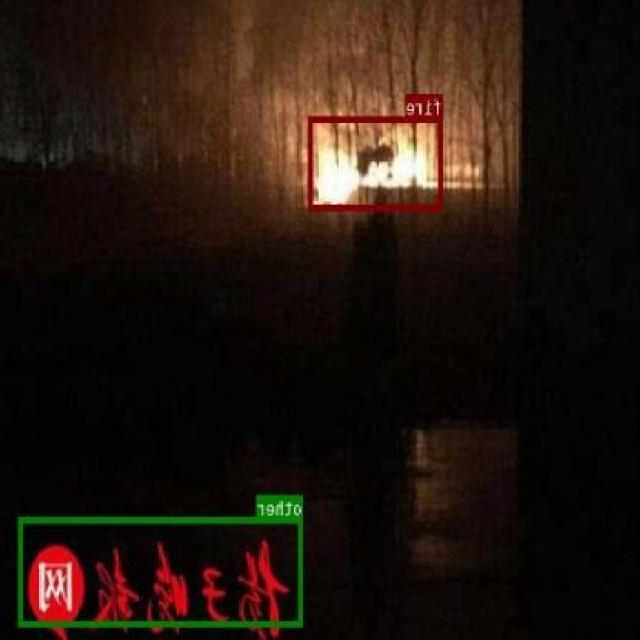Fire: (309, 114, 443, 210)
